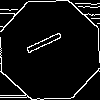I: (25, 25, 72, 57)
